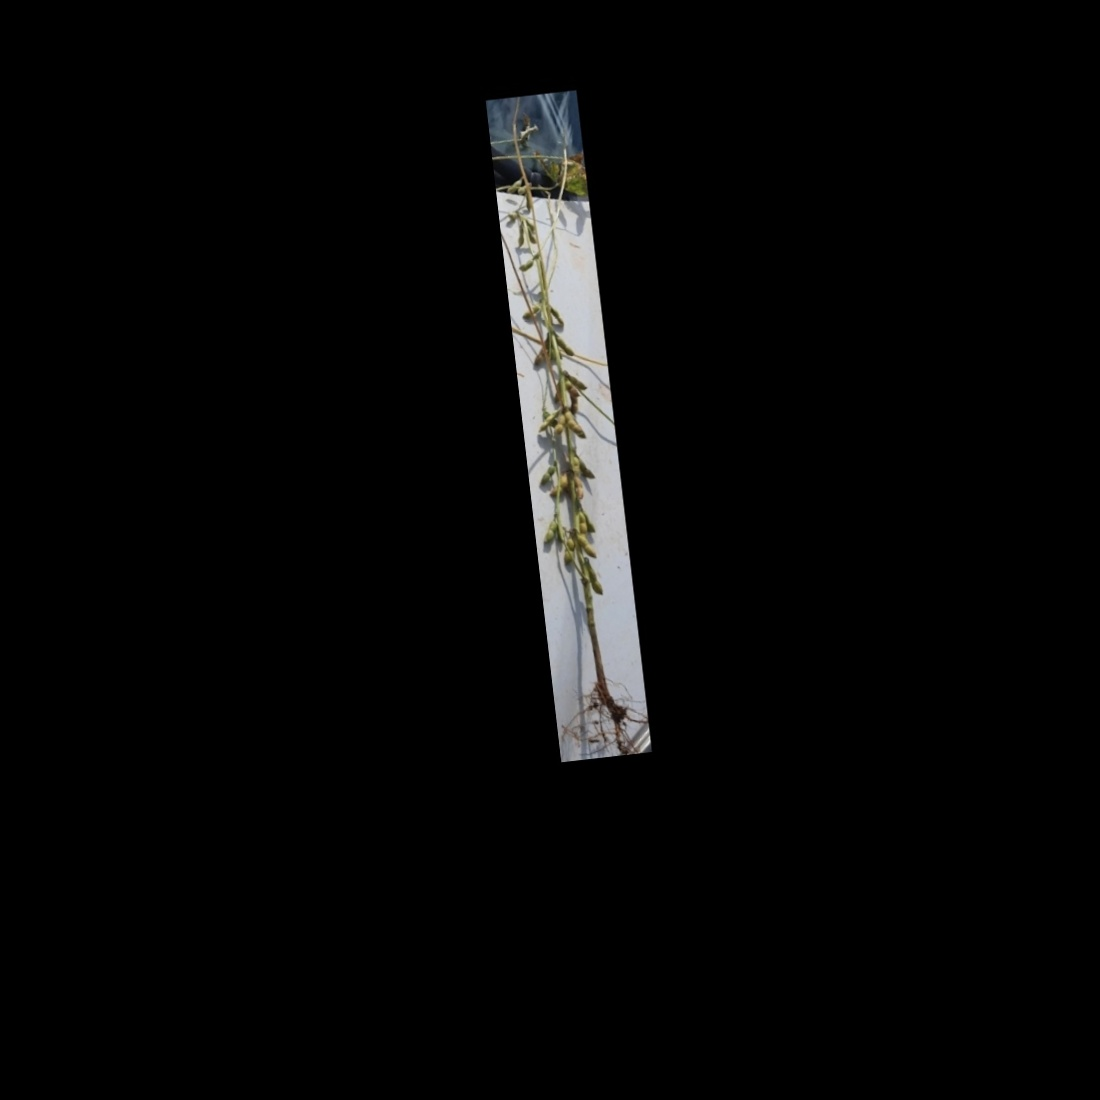pod: (585, 561, 606, 598), (533, 409, 562, 434), (547, 473, 571, 501), (539, 517, 561, 545), (577, 533, 598, 562), (560, 535, 577, 565), (536, 464, 559, 486), (519, 303, 542, 319), (513, 223, 527, 249), (505, 177, 525, 195), (550, 305, 565, 328), (552, 413, 567, 436), (575, 510, 588, 535), (573, 473, 584, 502), (516, 258, 535, 272)
soy: (493, 122, 644, 733)
